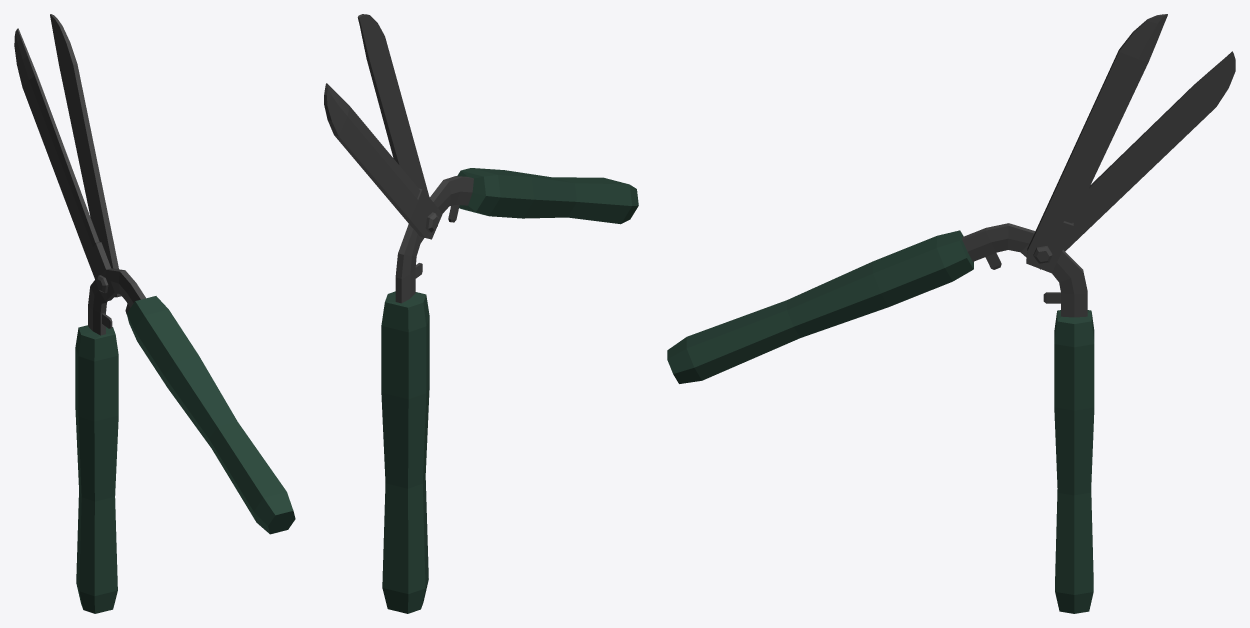
File: shears.fbx
The picture shows the model from 3 angles, left to right: view 1: azimuth 30°, elevation 25°; view 2: azimuth 150°, elevation 25°; view 3: azimuth 270°, elevation 25°; orthographic projection. The views are drawn at different scales.
Parts seen in each view (by area): view 1: Cube; view 2: Cube; view 3: Cube.
Boxes of the visible parts, x1=… form: Cube: x1=14, y1=14, x2=295, y2=613; Cube: x1=324, y1=14, x2=638, y2=613; Cube: x1=667, y1=14, x2=1235, y2=613.
Bounding box in the file's own units: 594 × 7469 × 6508.
